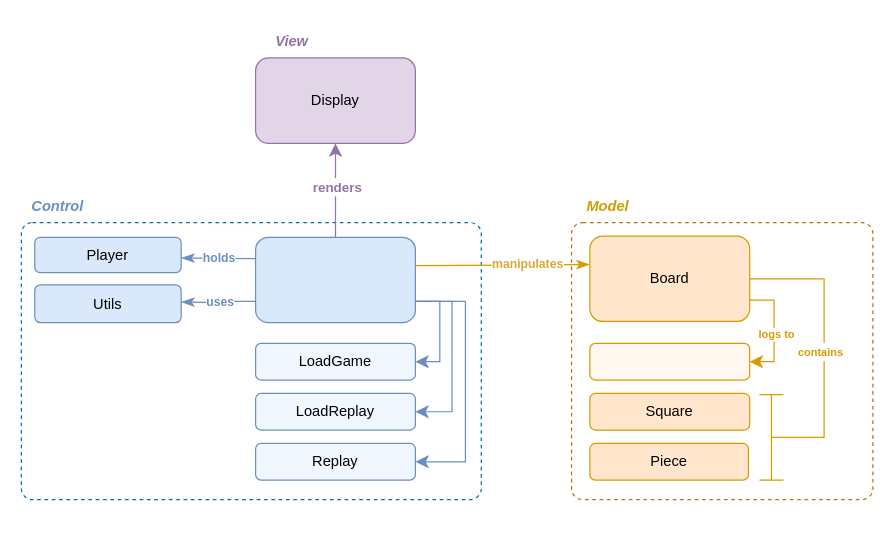
Some shapes in this 894 by 533 pixel diagram are drawn without their labels. Each missing label, with the centre of its shape:
Game: (x=334, y=279)
Logger: (x=669, y=361)
